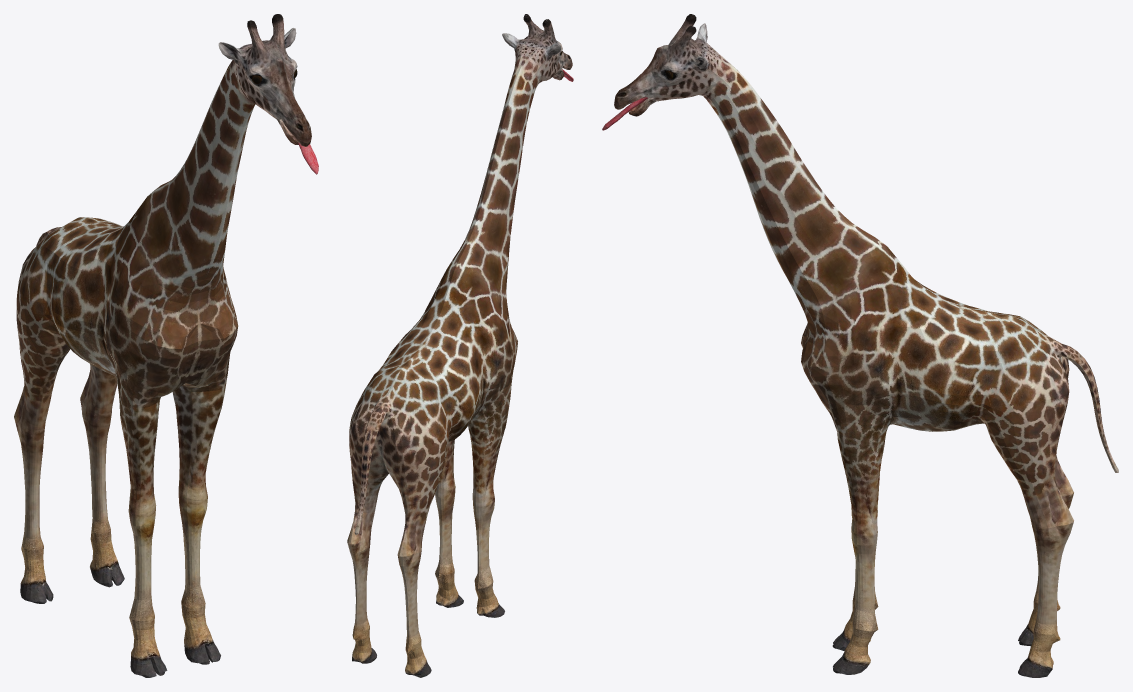
The model's file is sgiraffe01.glb.
3 renders of one model, left to right at view 1: azimuth 30°, elevation 25°; view 2: azimuth 150°, elevation 25°; view 3: azimuth 270°, elevation 25°, orthographic. The views are drawn at different scales.
Parts seen in each view (by area): view 1: AHZGWB60BL1QXW4F2AK6OE7PD; view 2: AHZGWB60BL1QXW4F2AK6OE7PD; view 3: AHZGWB60BL1QXW4F2AK6OE7PD.
Boxes of the visible parts, x1,y1,x2,y2 form: AHZGWB60BL1QXW4F2AK6OE7PD: (14, 14, 318, 677); AHZGWB60BL1QXW4F2AK6OE7PD: (347, 14, 573, 677); AHZGWB60BL1QXW4F2AK6OE7PD: (602, 14, 1118, 677).
Size of the model in its own units: 0.4361 by 2.5 by 1.83.
1 material, 1 textured.
